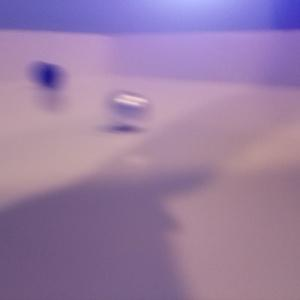alive_ball: (105, 89, 155, 127)
dead_ball: (29, 62, 67, 86)
